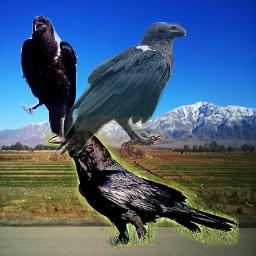Crow: (45, 127, 239, 246), (54, 22, 186, 157), (20, 15, 78, 143)
